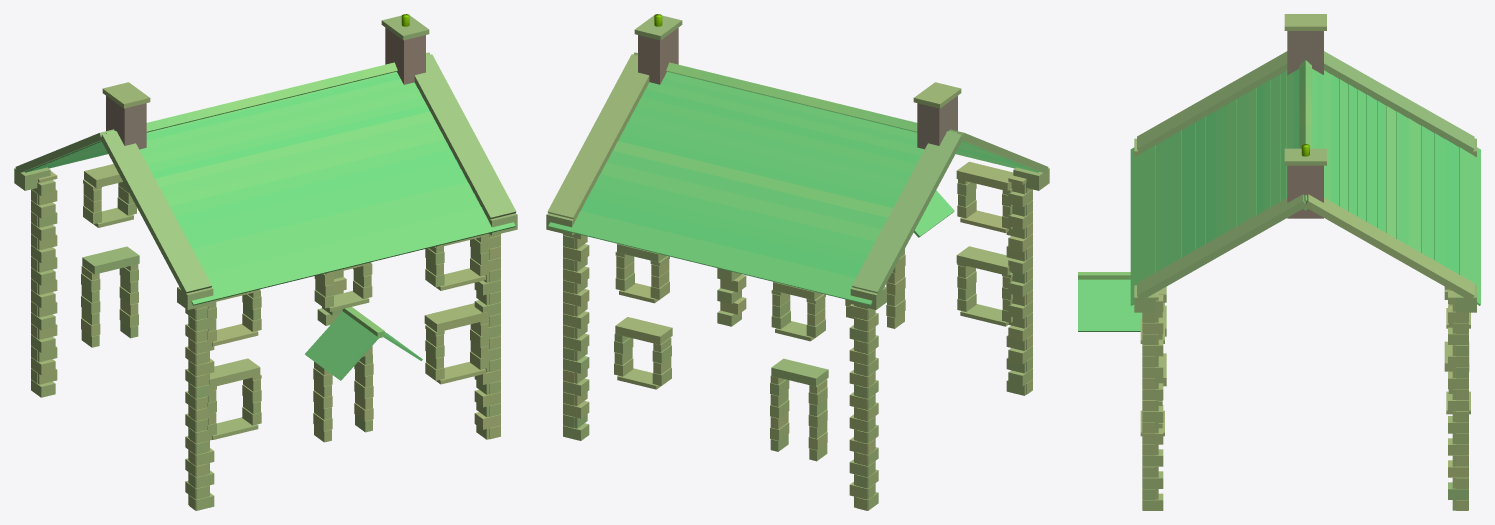
The model's file is SM_Bld_100_Stone.glb.
3 views of the same model, side by side, from view 1: azimuth 30°, elevation 25°; view 2: azimuth 150°, elevation 25°; view 3: azimuth 270°, elevation 25° (orthographic).
Visible parts, largest first — view 1: SM_Bld_100_Stone; view 2: SM_Bld_100_Stone; view 3: SM_Bld_100_Stone.
Boxes of the visible parts, box(x1,y1,x2,y2) form: SM_Bld_100_Stone: box(14, 14, 517, 510); SM_Bld_100_Stone: box(546, 14, 1049, 510); SM_Bld_100_Stone: box(1078, 14, 1480, 510).
Size of the model in its own units: 9.25 by 9.74 by 9.9.
